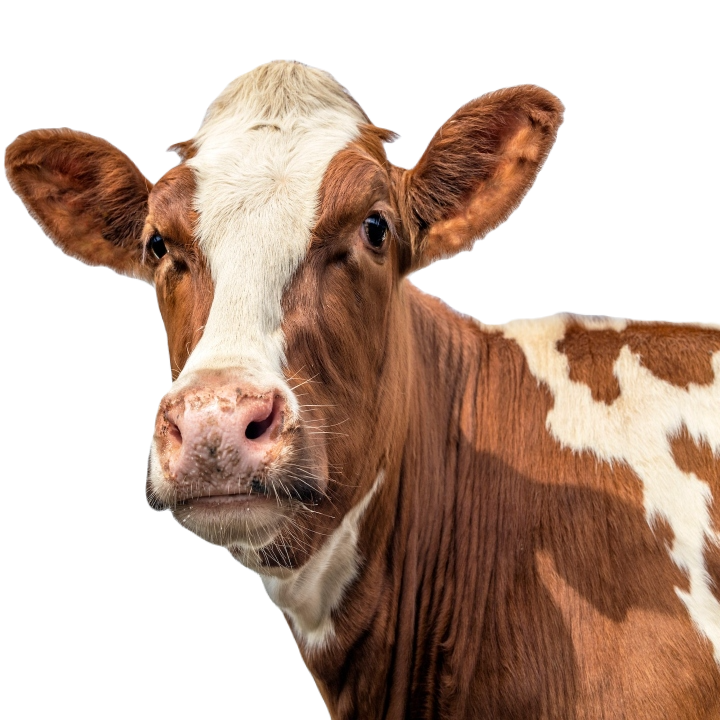Cow: (7, 58, 719, 719)
